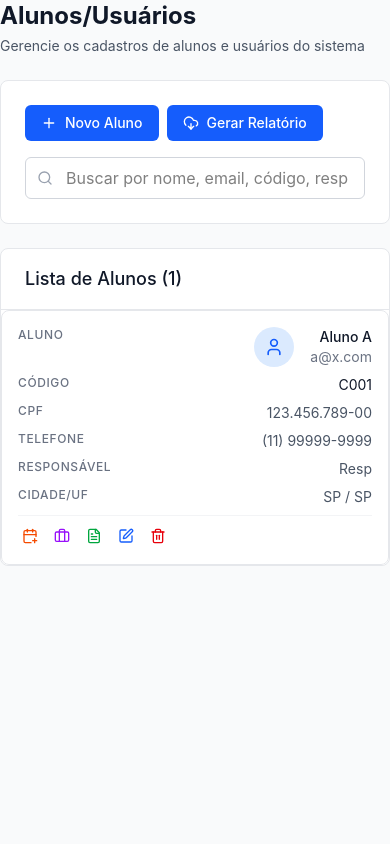
Test: Students page › opens new referral modal inside referrals view
Click the button titled "Encaminhamentos" at (62,536), box [50,524,74,548]
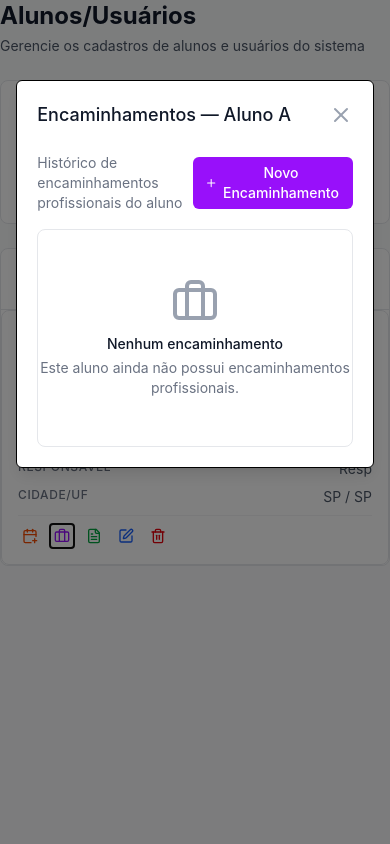
Click the button "Novo Encaminhamento" at (273,183), box [193,157,353,209]
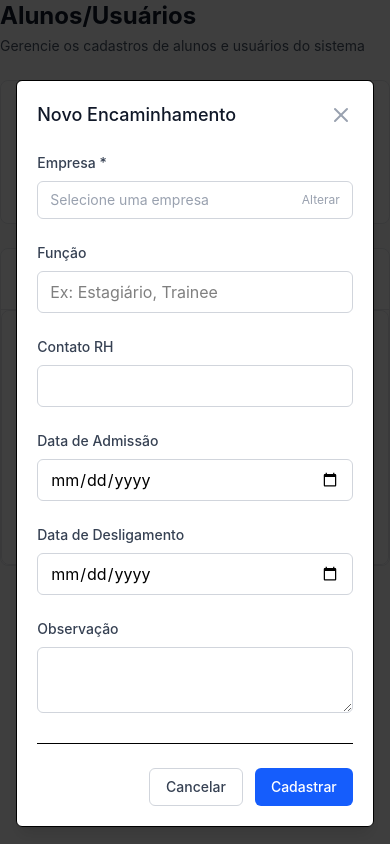
Expected: the heading "Novo Encaminhamento" is shown, [37,101,236,129]
